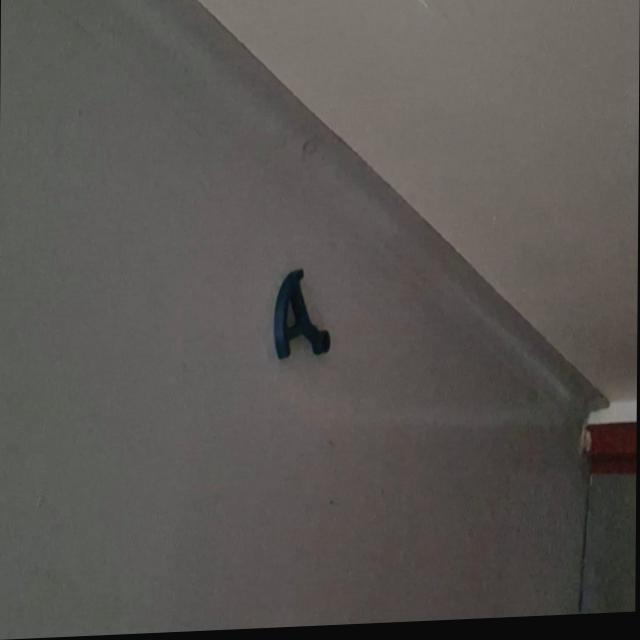haptic: (272, 266, 331, 362)
